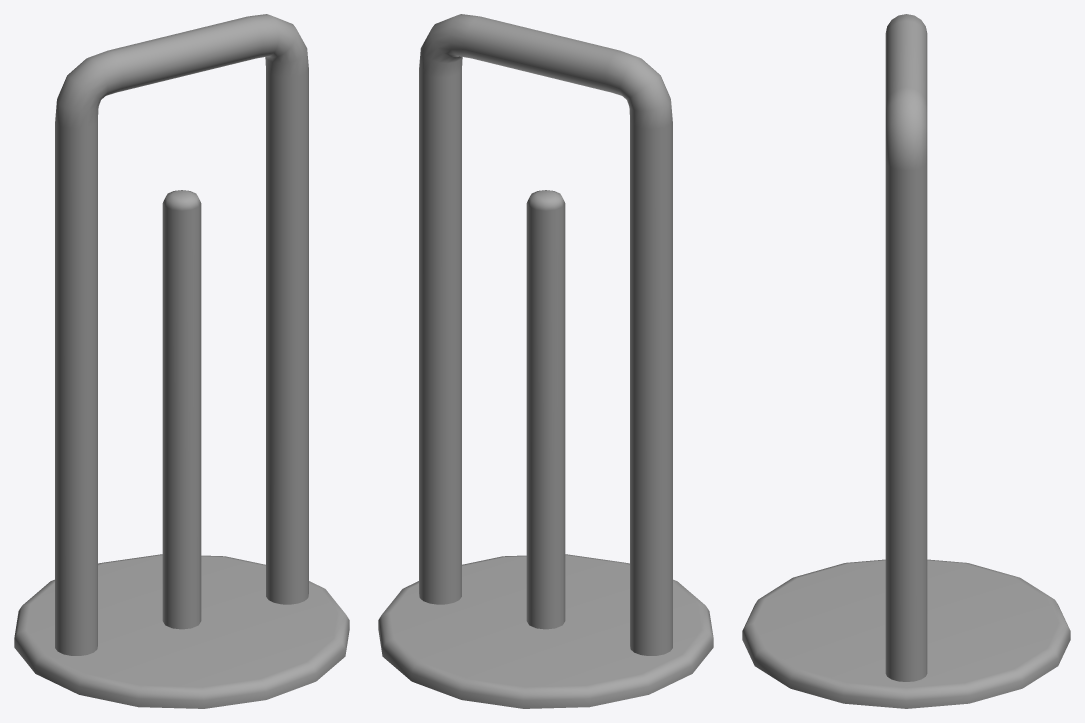
The model's file is Stand_Toilet_Paper.glb.
The picture shows the model from 3 angles, left to right: view 1: azimuth 30°, elevation 25°; view 2: azimuth 150°, elevation 25°; view 3: azimuth 270°, elevation 25°; orthographic projection. The views are drawn at different scales.
Parts seen in each view (by area): view 1: Stand_Toilet_Paper; view 2: Stand_Toilet_Paper; view 3: Stand_Toilet_Paper.
Boxes of the visible parts, x1,y1,x2,y2 form: Stand_Toilet_Paper: (14,14,349,708); Stand_Toilet_Paper: (378,14,713,708); Stand_Toilet_Paper: (742,14,1070,708).
Bounding box in the file's own units: 0.2943 × 0.5787 × 0.2943.
Materials: 1 (1 with a texture image).
